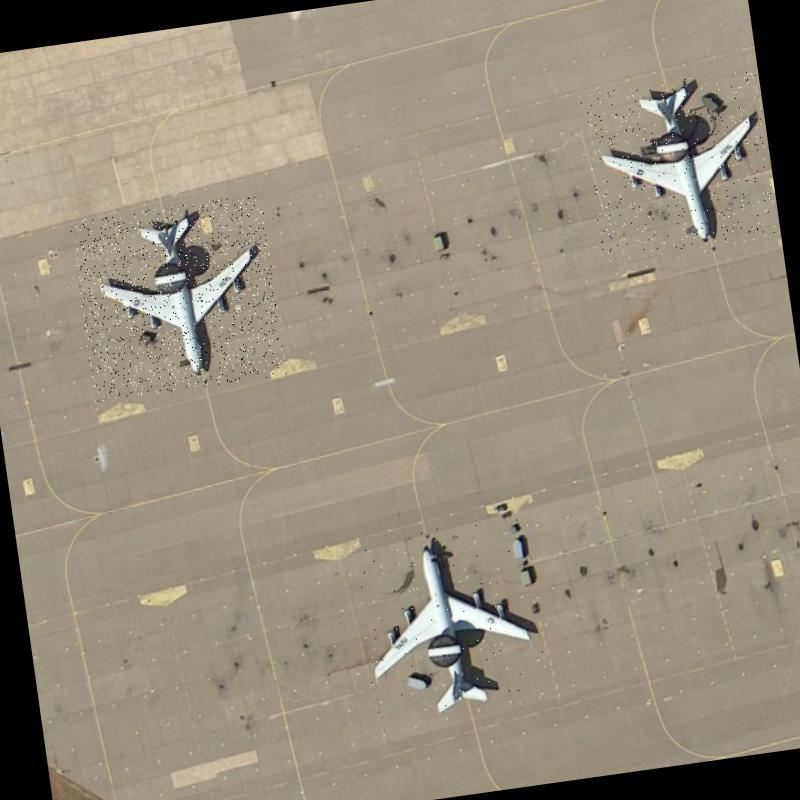A7: (68, 194, 286, 402), (351, 514, 553, 730), (579, 68, 778, 262)
